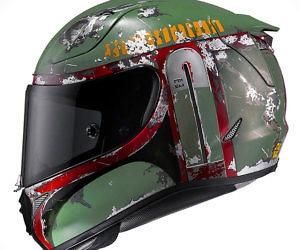with_helmet: (9, 1, 290, 250)
